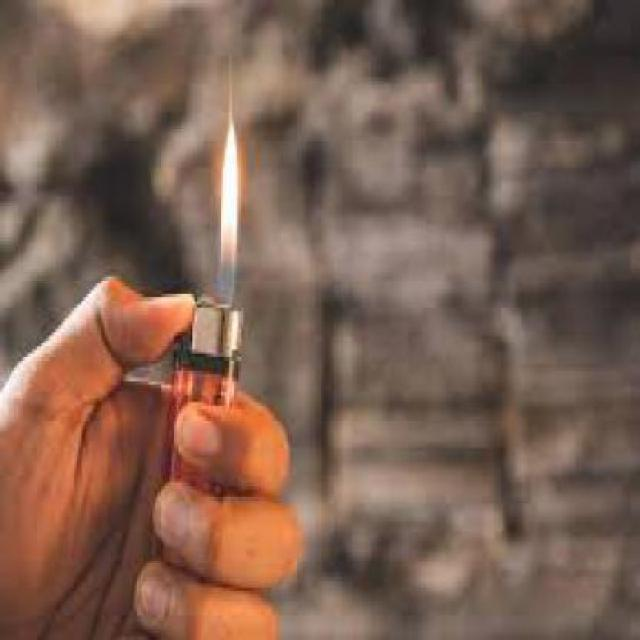Fire: (217, 57, 243, 299)
